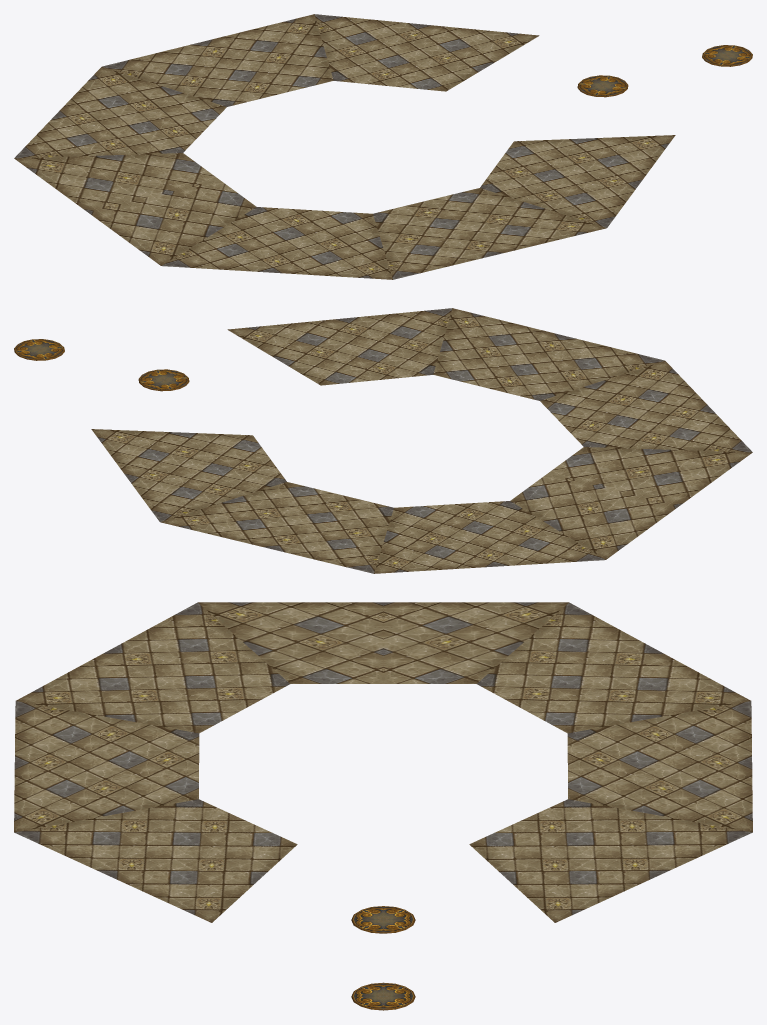
The model's file is SN_bfzt01_wujian_dimian02.FBX.
3 views of the same model, one above another, from view 1: azimuth 30°, elevation 25°; view 2: azimuth 150°, elevation 25°; view 3: azimuth 270°, elevation 25° (orthographic). The views are drawn at different scales.
Parts seen in each view (by area): view 1: SN_bfzt01_wujian_dimian02; view 2: SN_bfzt01_wujian_dimian02; view 3: SN_bfzt01_wujian_dimian02.
Part boxes in pixels (x1,y1,x2,y2): SN_bfzt01_wujian_dimian02: (14, 14, 752, 279); SN_bfzt01_wujian_dimian02: (14, 308, 752, 573); SN_bfzt01_wujian_dimian02: (14, 602, 752, 1010).
Size of the model in its own units: 7527 by 5761 by 6.59.
